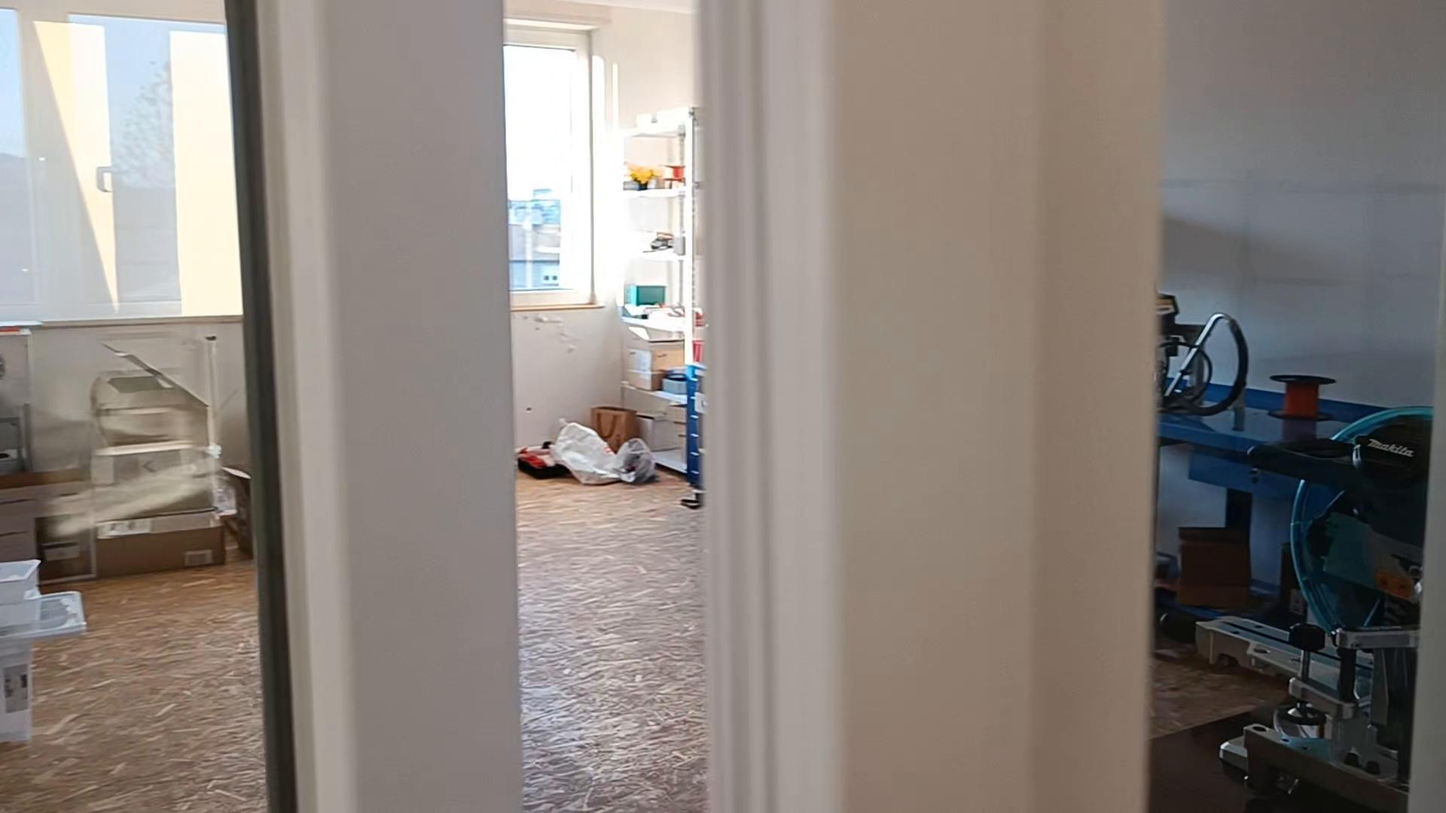floor: (0, 562, 267, 812), (517, 477, 706, 812)
wall: (1175, 9, 1445, 384)
